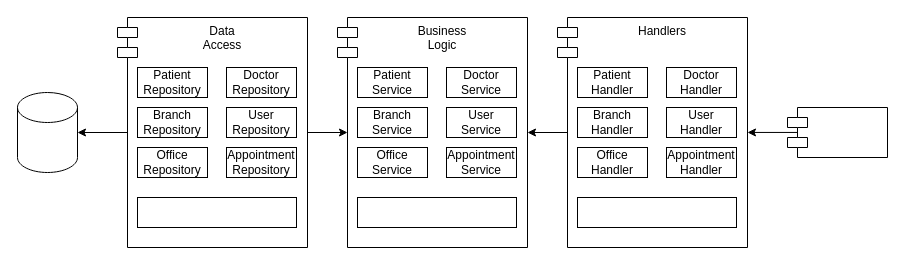
Image size: 905x265. Some labels were removed from this diagram. The centre of each missing label's shape, as x and y in pixels:
"DB" goes at (x=47, y=132).
"Timetable Handler" goes at (x=656, y=212).
"Timetable Repository" goes at (x=216, y=212).
"Timetable Service" goes at (x=436, y=212).
"UI" goes at (x=837, y=132).
